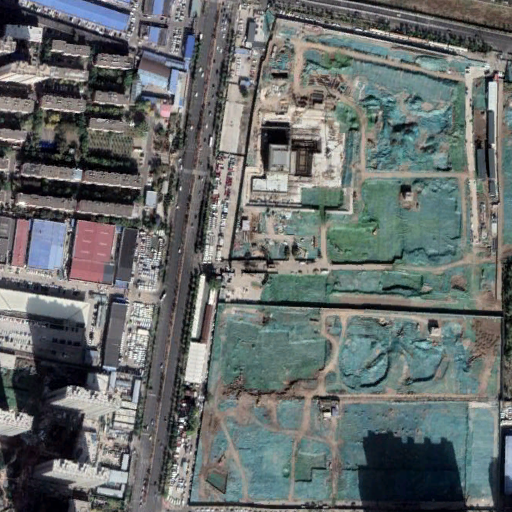cw: (188, 18, 512, 512)
